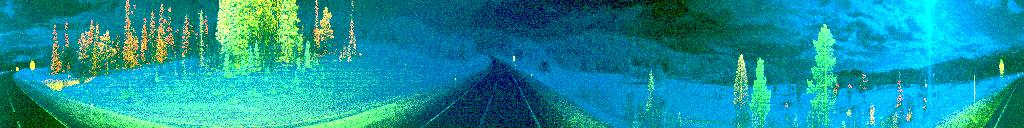pole: (971, 71, 977, 111), (88, 86, 96, 116)
